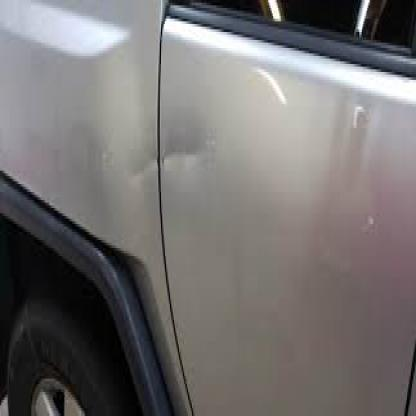dent: (132, 142, 196, 191)
